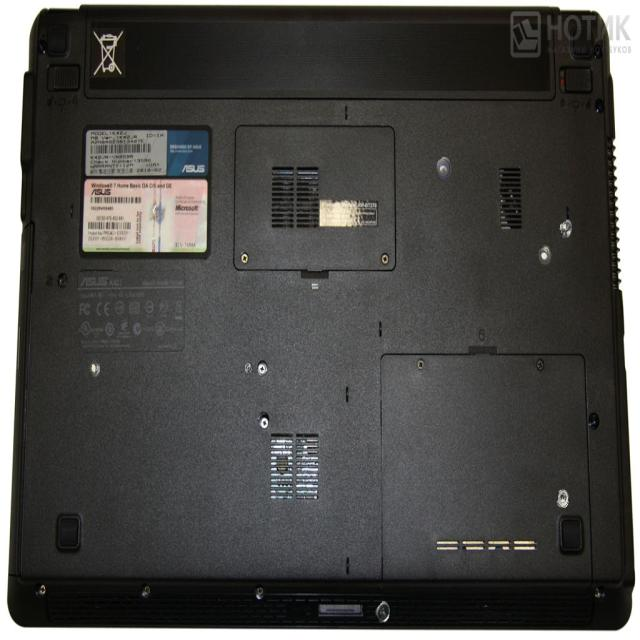lock: (375, 600, 390, 623), (559, 219, 572, 238)
missing_screw: (436, 156, 451, 179), (556, 489, 569, 508), (538, 244, 551, 263), (89, 359, 100, 377)
